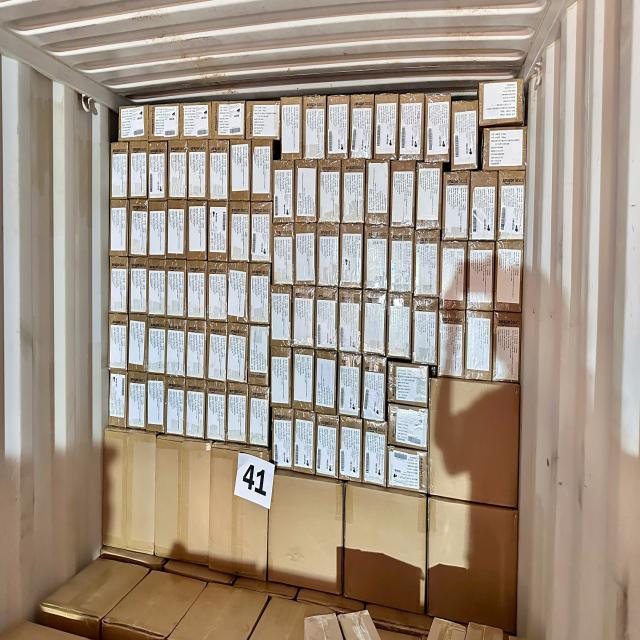Carton: (428, 496, 518, 631), (430, 379, 520, 508), (347, 483, 427, 612), (268, 467, 342, 598), (211, 444, 266, 576), (155, 435, 207, 566), (104, 425, 154, 556), (480, 80, 526, 126), (385, 443, 429, 491), (495, 240, 523, 312), (494, 310, 522, 382), (388, 404, 430, 452), (470, 168, 498, 239), (482, 126, 528, 169), (466, 306, 492, 382), (443, 169, 470, 242), (415, 160, 443, 230), (467, 240, 495, 310), (450, 101, 478, 170), (437, 309, 465, 377), (386, 294, 414, 362), (389, 160, 416, 229), (388, 363, 430, 407), (499, 172, 525, 242), (412, 295, 438, 365), (363, 223, 389, 292), (389, 227, 414, 296), (441, 242, 466, 310), (399, 93, 423, 163), (426, 94, 450, 163), (313, 348, 337, 417), (339, 223, 363, 290), (316, 222, 340, 288), (414, 230, 438, 296), (362, 355, 385, 423), (366, 160, 390, 225), (342, 159, 366, 224), (228, 138, 252, 203), (338, 289, 362, 354), (292, 286, 316, 351), (338, 418, 362, 483), (337, 354, 362, 416), (280, 96, 304, 160), (374, 94, 398, 158), (294, 160, 318, 224), (293, 224, 317, 287), (351, 94, 374, 159), (318, 160, 342, 222), (187, 137, 209, 203), (292, 347, 314, 413), (126, 197, 149, 260), (270, 344, 293, 407), (303, 95, 325, 160), (364, 291, 386, 356), (316, 416, 339, 478), (207, 200, 229, 264), (250, 200, 272, 264), (316, 288, 338, 352), (328, 96, 350, 159), (251, 139, 273, 202), (186, 200, 208, 263), (185, 319, 207, 382), (227, 322, 249, 385), (272, 160, 294, 222), (146, 198, 168, 260), (270, 284, 292, 346), (249, 263, 271, 325), (206, 321, 228, 383), (293, 414, 315, 476), (246, 100, 280, 140), (228, 202, 250, 263), (272, 224, 294, 285), (211, 100, 246, 138), (186, 261, 208, 321), (208, 141, 229, 202), (249, 324, 269, 388), (227, 384, 247, 448), (167, 199, 187, 262), (108, 367, 128, 430), (148, 139, 168, 201), (207, 264, 228, 323), (168, 138, 188, 199), (129, 139, 149, 200), (147, 317, 167, 378), (109, 140, 129, 200), (109, 198, 129, 258), (167, 260, 187, 320), (128, 314, 148, 374), (167, 319, 187, 379), (247, 385, 267, 445), (147, 260, 167, 318), (128, 258, 148, 316), (108, 256, 128, 314), (108, 313, 128, 371), (164, 380, 184, 437), (207, 383, 226, 443), (228, 266, 248, 322), (273, 408, 291, 469), (180, 104, 212, 138), (150, 104, 180, 140), (128, 371, 146, 429), (146, 379, 164, 437), (186, 383, 203, 440), (120, 107, 148, 139)
